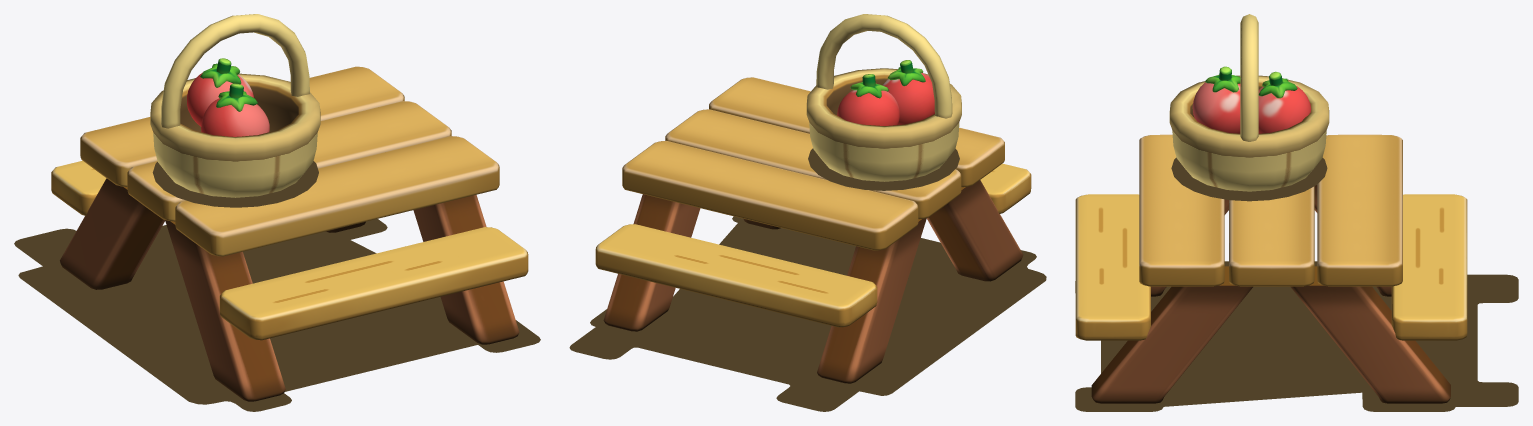
The model's file is Veg_Table.fbx.
The picture shows the model from 3 angles, left to right: view 1: azimuth 30°, elevation 25°; view 2: azimuth 150°, elevation 25°; view 3: azimuth 270°, elevation 25°; orthographic projection. The views are drawn at different scales.
Visible parts, largest first — view 1: Table1, Table_SDW, Basket, Basket_SDW; view 2: Table1, Table_SDW, Basket, Basket_SDW; view 3: Table1, Table_SDW, Basket, Basket_SDW.
Part boxes in pixels (<box>): Table1: <box>51,66,528,401</box>; Table_SDW: <box>14,219,540,411</box>; Basket: <box>150,14,320,197</box>; Basket_SDW: <box>152,161,318,207</box>; Table1: <box>595,77,1031,383</box>; Table_SDW: <box>569,216,1046,411</box>; Basket: <box>806,14,961,181</box>; Basket_SDW: <box>808,148,959,190</box>; Table1: <box>1075,134,1467,403</box>; Table_SDW: <box>1075,261,1518,411</box>; Basket: <box>1169,14,1329,191</box>; Basket_SDW: <box>1171,157,1327,201</box>.
Size of the model in its own units: 155 by 140 by 193.
Materials: 3 (1 with a texture image).
